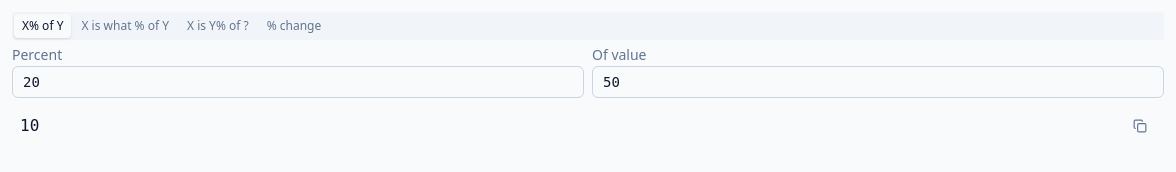
Test: PercentageCalculatorWidget › does not tag the "X is Y% of ?" answer with a % sign — it answers in the same unit as the inputs
Step 1. Click the button "X is Y% of ?" → (218, 26), box [179,14,257,38]
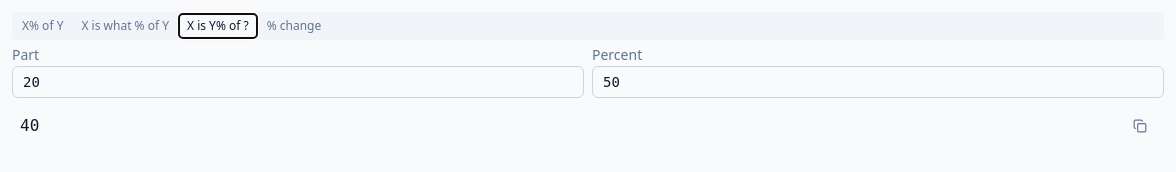
Expected: the text "40" is shown, [20,114,39,138]
